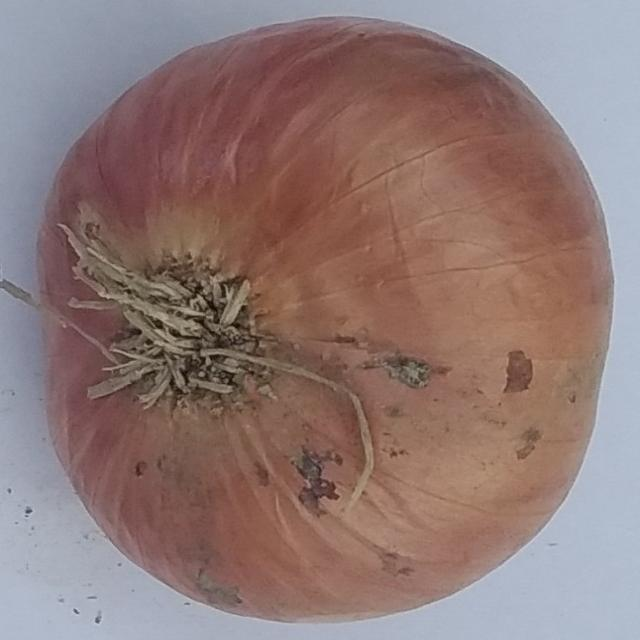onion: (25, 14, 622, 627)
